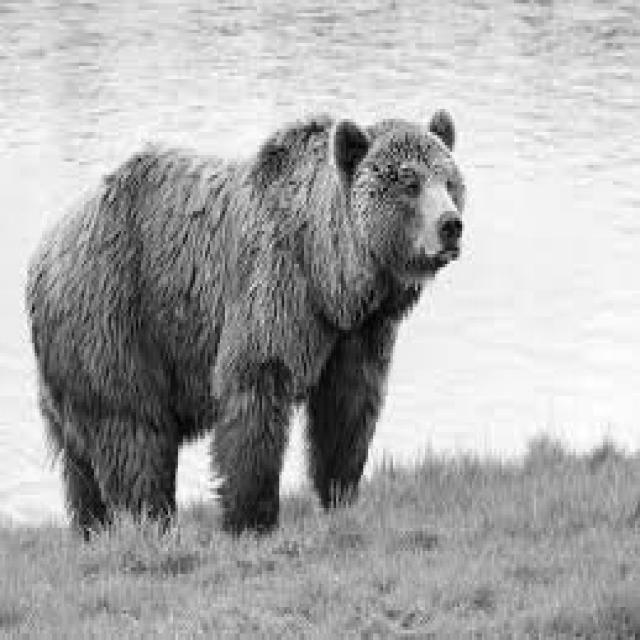Bear: (25, 109, 469, 540)
